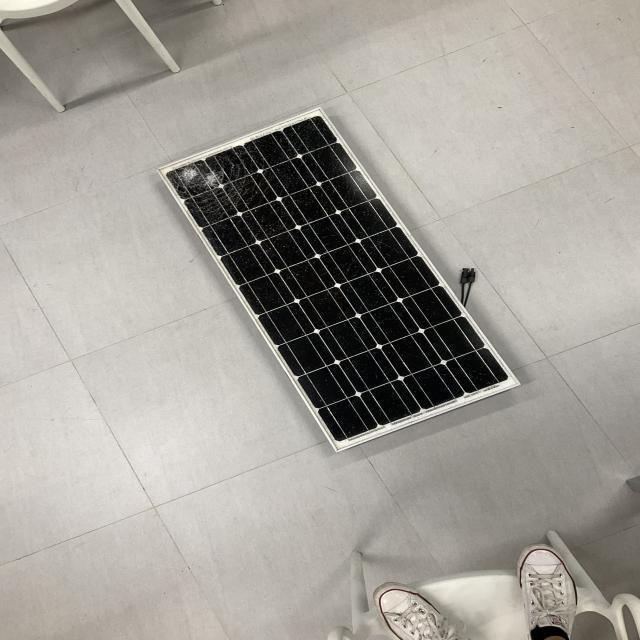Structural Damage: (172, 156, 240, 214)
